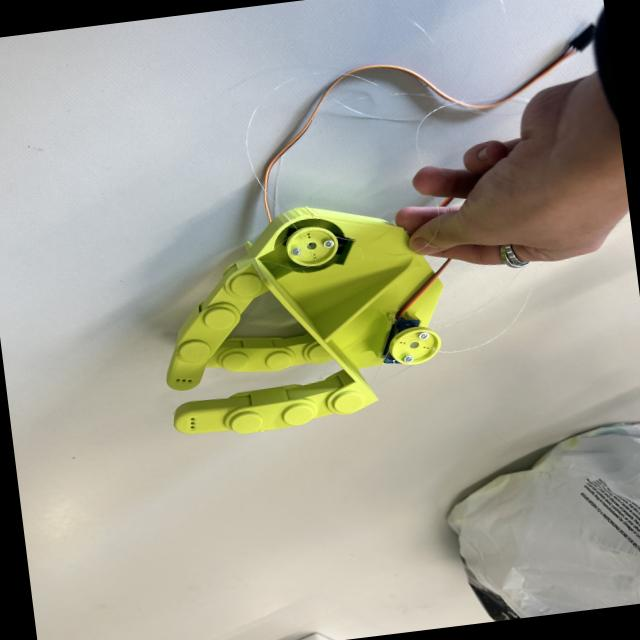prosthetic: (144, 188, 460, 446)
